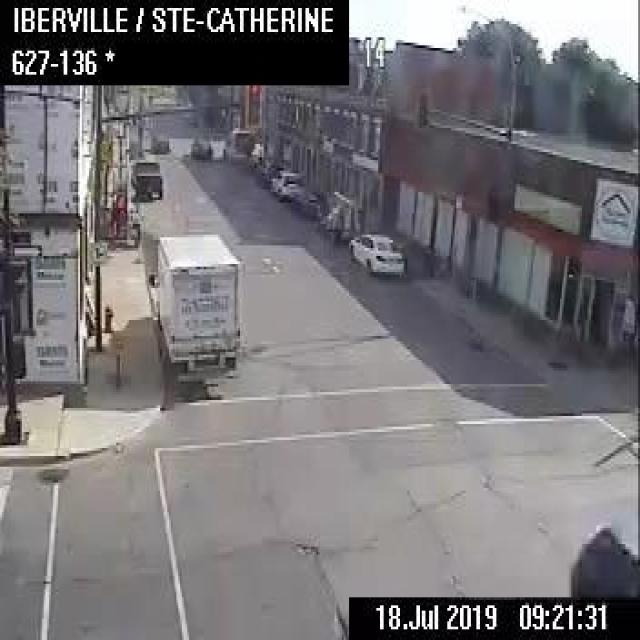construction: (94, 82, 140, 245)
vehicle: (146, 229, 238, 371), (568, 512, 638, 593), (348, 230, 405, 274), (129, 156, 162, 199), (269, 168, 303, 199), (222, 126, 251, 162), (291, 187, 326, 216), (190, 131, 212, 158), (255, 158, 277, 180), (151, 130, 168, 152)
